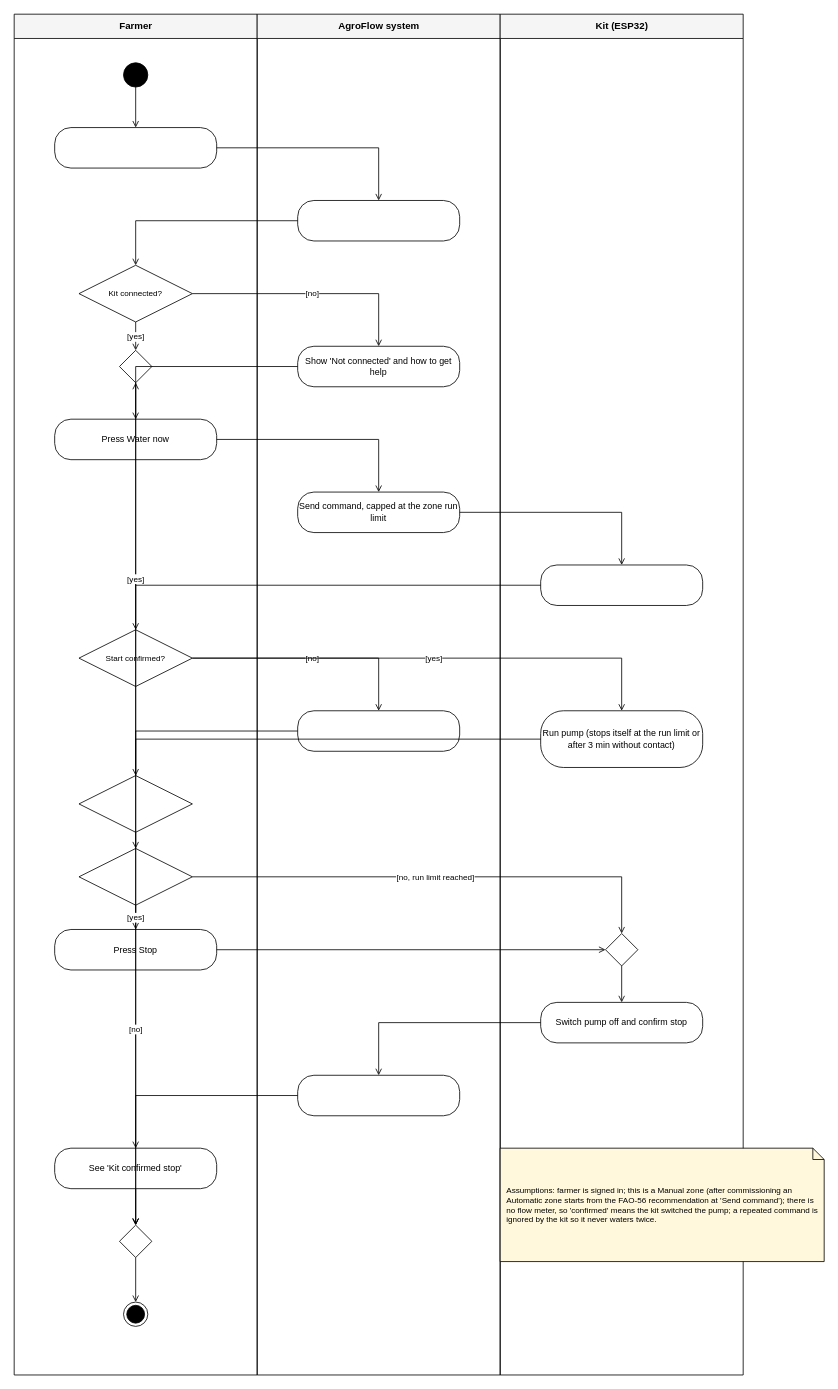
This 838x1389 diagram has some shape labels left out. Here are the shapes that lost their labels. From the top down, the centre of each, then its label:
At point (135, 147): "Open zone in the app".
At point (378, 220): "Show readings, advice and kit status".
At point (621, 584): "Switch pump on and confirm start".
At point (378, 730): "Show 'No response'".
At point (135, 803): "Try again?".
At point (135, 876): "Stop early?".
At point (378, 1095): "Record watering in History".
